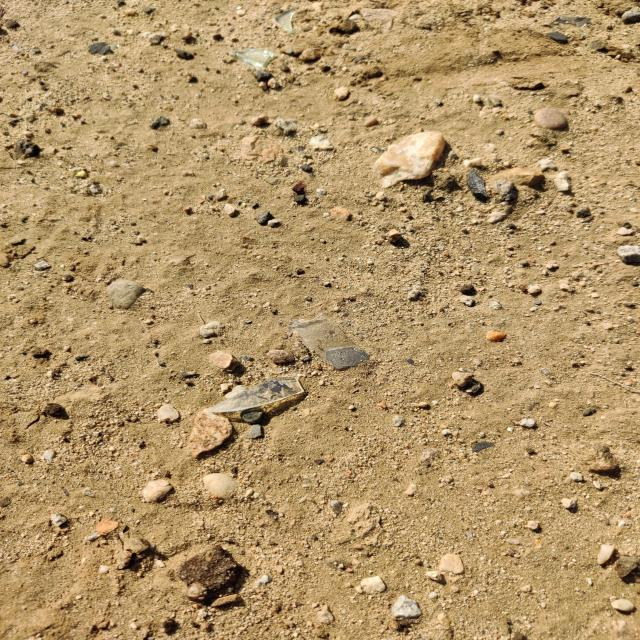litter: (208, 381, 305, 412)
